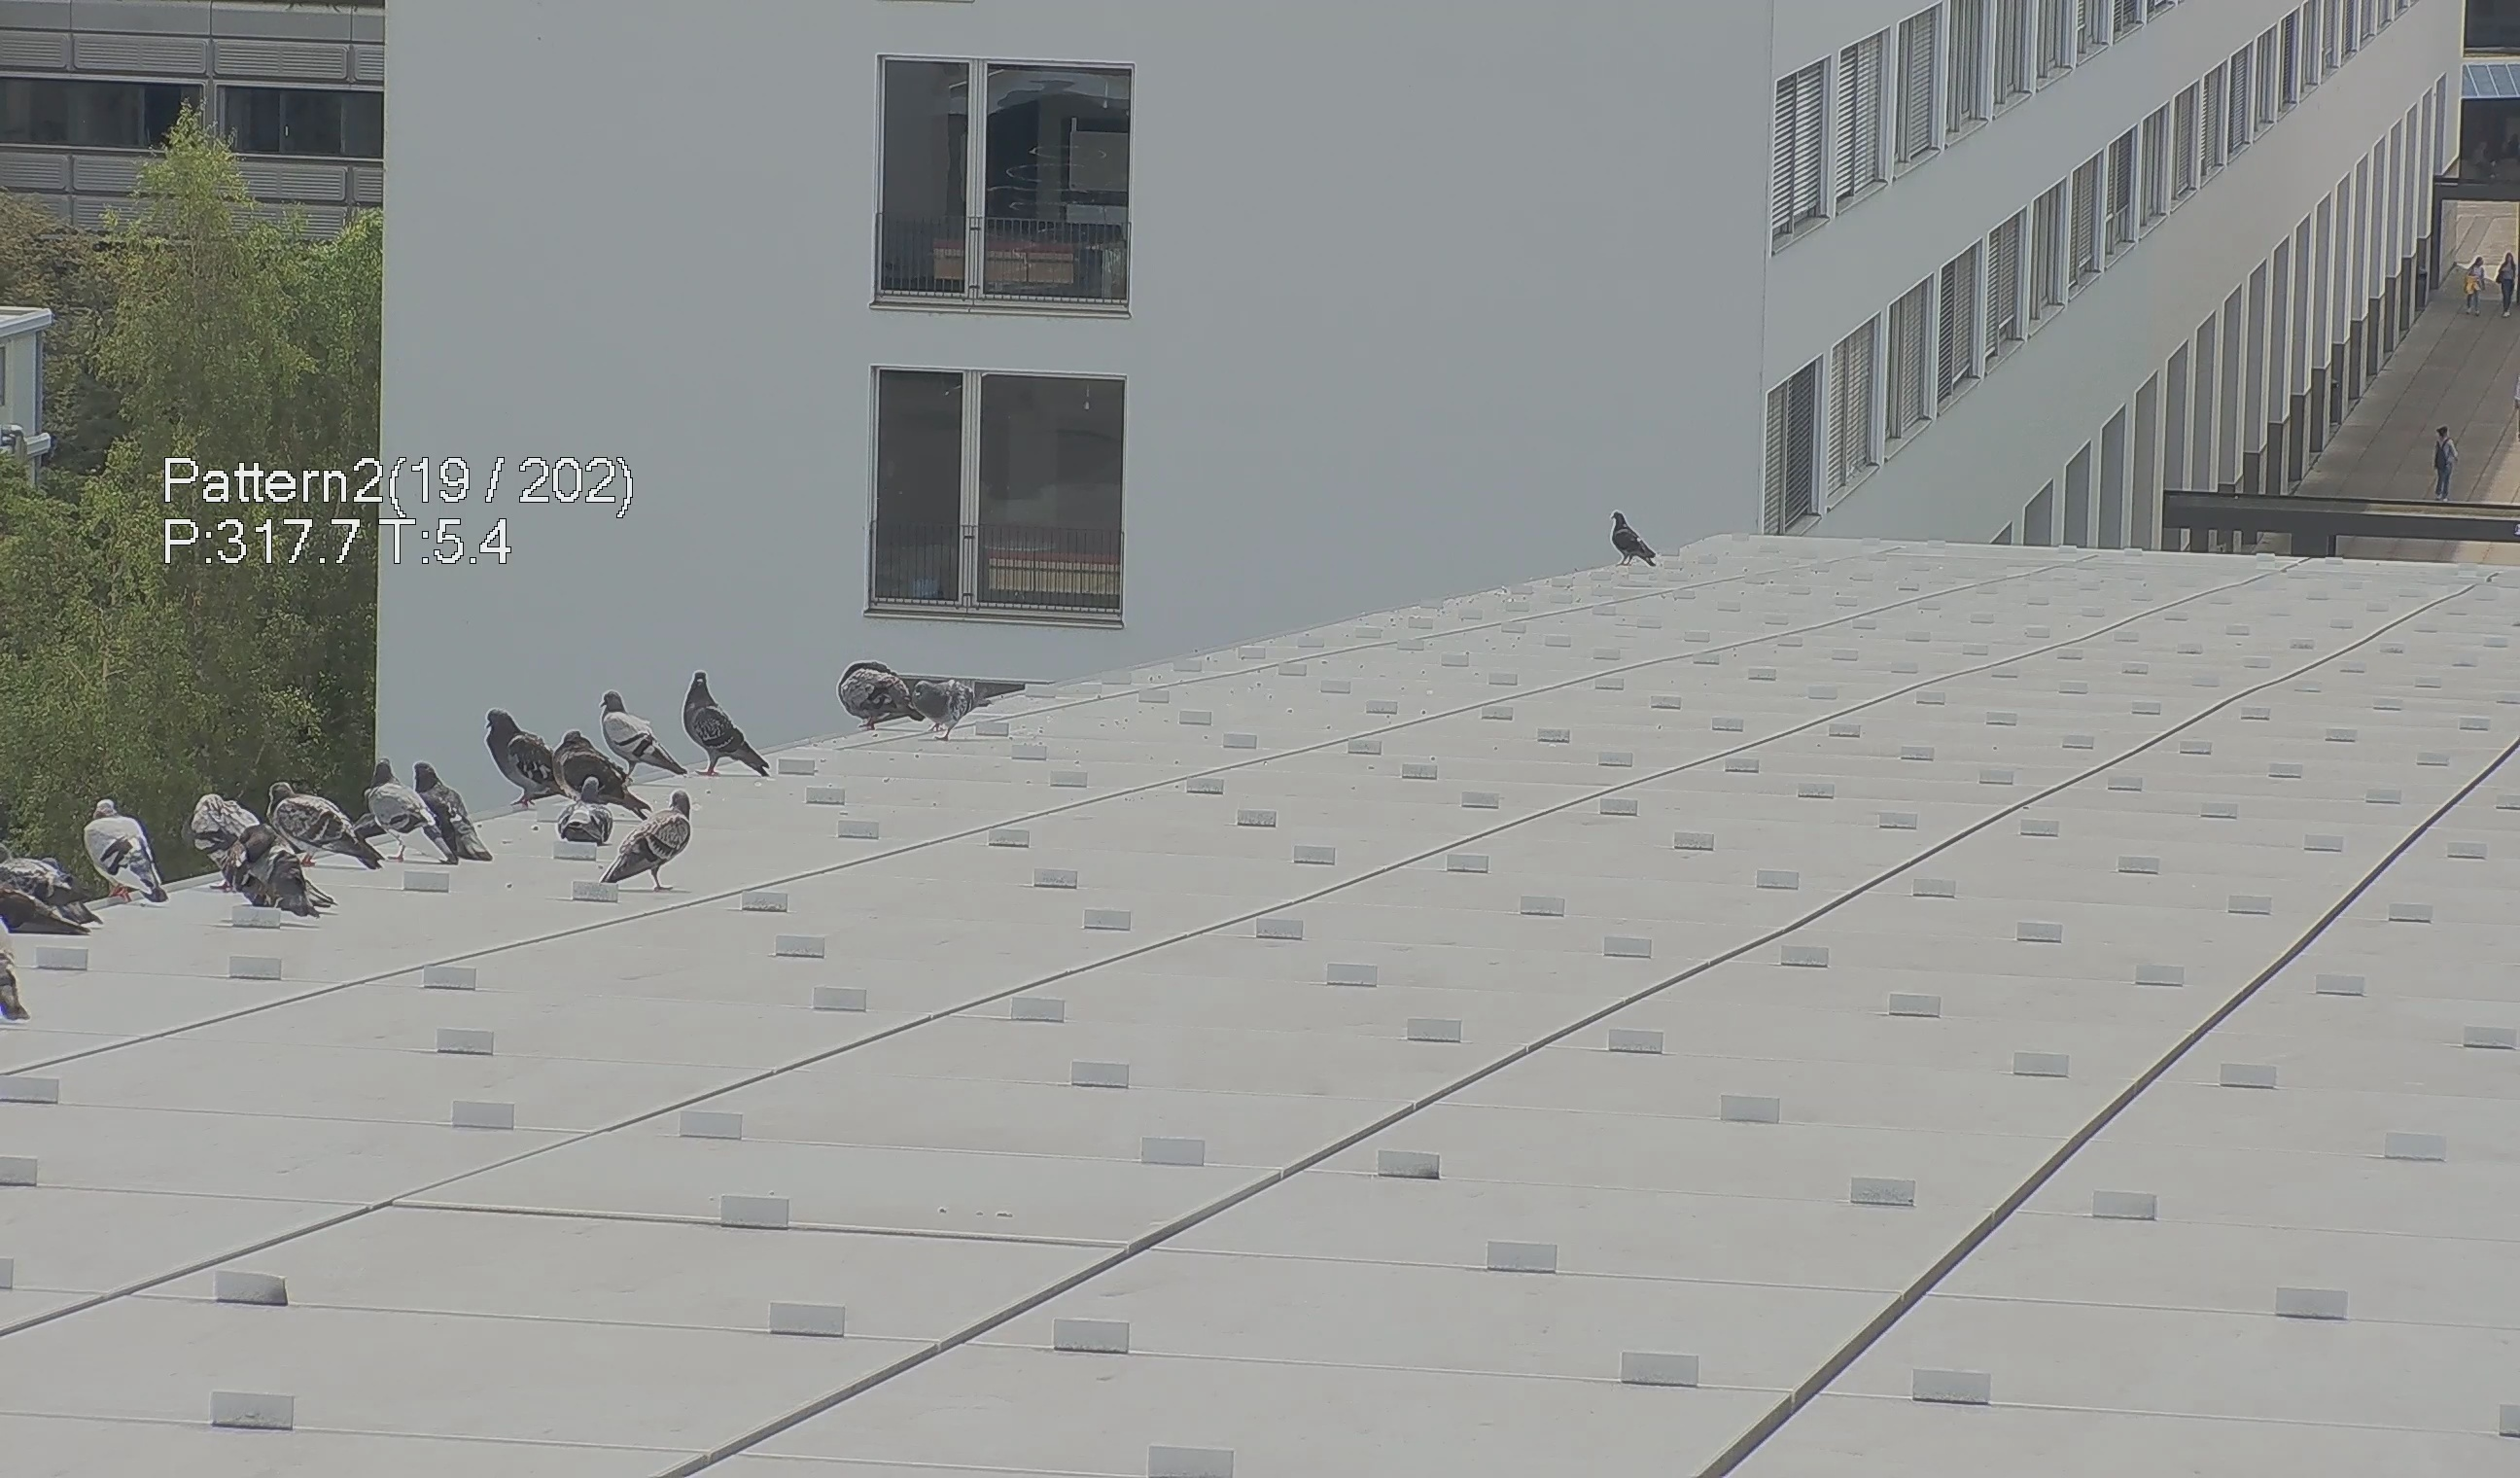Pigeon: (462, 691, 612, 811), (375, 748, 489, 862), (666, 658, 767, 781), (72, 790, 181, 903), (902, 642, 1016, 750), (2, 827, 100, 945), (262, 772, 380, 869), (587, 688, 696, 792), (582, 790, 691, 892), (241, 818, 327, 918), (834, 649, 930, 737), (193, 785, 266, 903), (368, 746, 436, 860), (1607, 496, 1676, 574)
